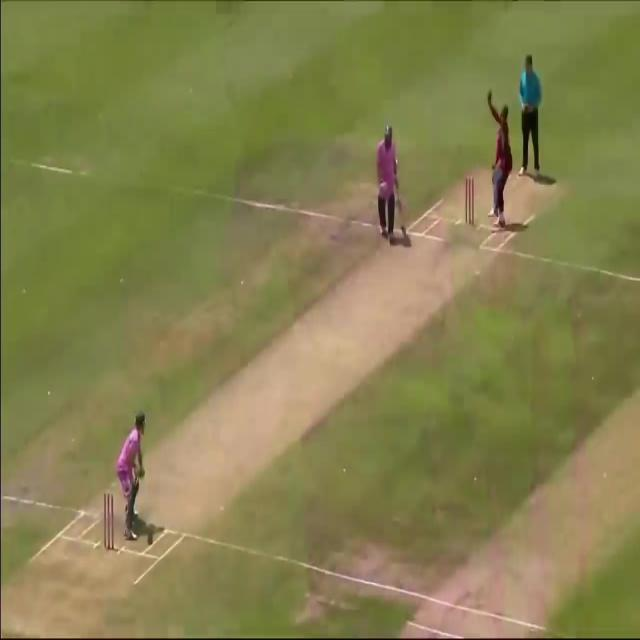Ball: (105, 405, 159, 550), (367, 121, 415, 243)
Fielder: (483, 85, 522, 235)
Umpire: (514, 50, 545, 226)
